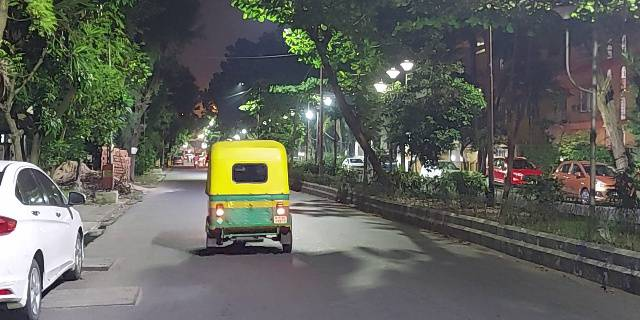Autorickshaw: (205, 139, 292, 253)
